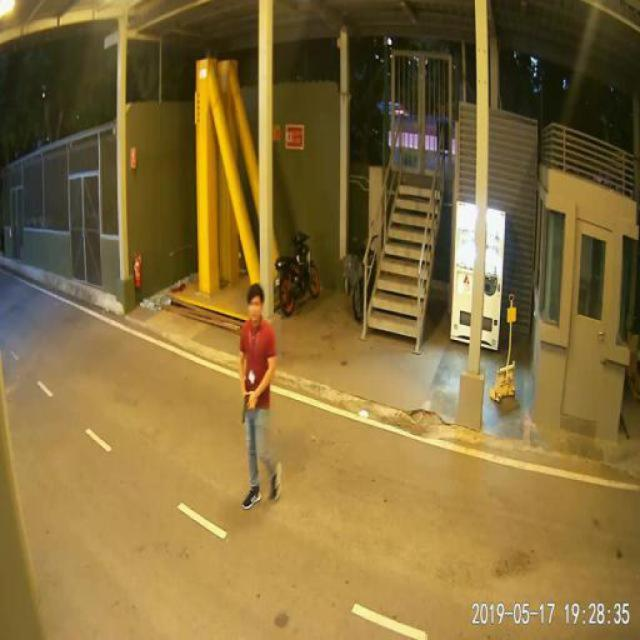pistol: (238, 392, 254, 422)
